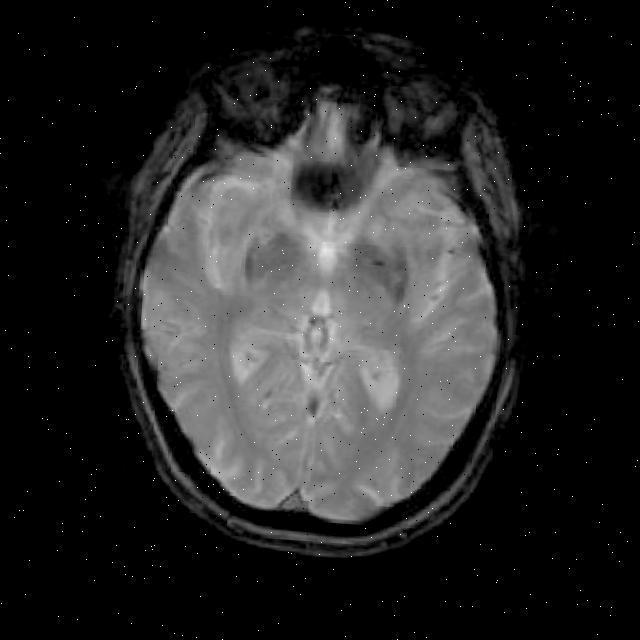LMCI: (421, 198, 489, 381)
MCI: (200, 175, 278, 322)
